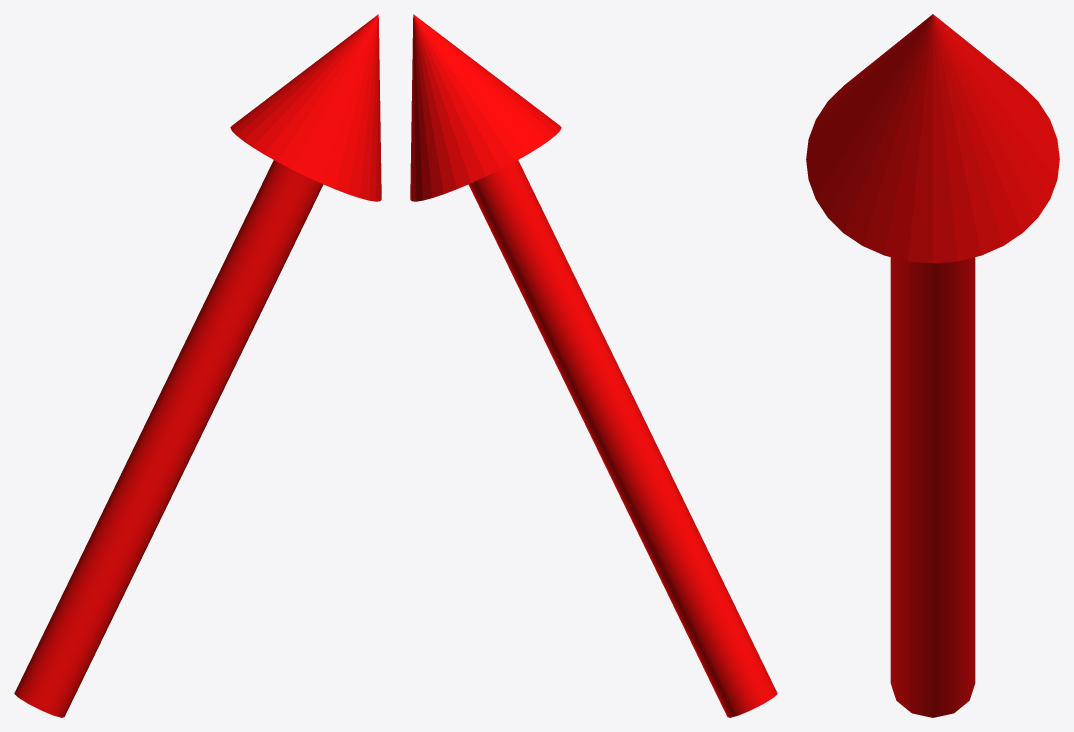
Rendered from DCblforce2.glb.
3 renders of one model, left to right at view 1: azimuth 30°, elevation 25°; view 2: azimuth 150°, elevation 25°; view 3: azimuth 270°, elevation 25°, orthographic. The views are drawn at different scales.
Parts seen in each view (by area): view 1: NURBSパス.007, 円錐.007; view 2: NURBSパス.007, 円錐.007; view 3: 円錐.007, NURBSパス.007.
Boxes of the visible parts, x1,y1,x2,y2 form: NURBSパス.007: (14,160,323,717); 円錐.007: (230,14,381,201); NURBSパス.007: (468,160,777,717); 円錐.007: (410,14,561,201); 円錐.007: (806,14,1059,263); NURBSパス.007: (890,257,975,717).
Bounding box in the file's own units: 0.7433 × 1.22 × 0.3.
